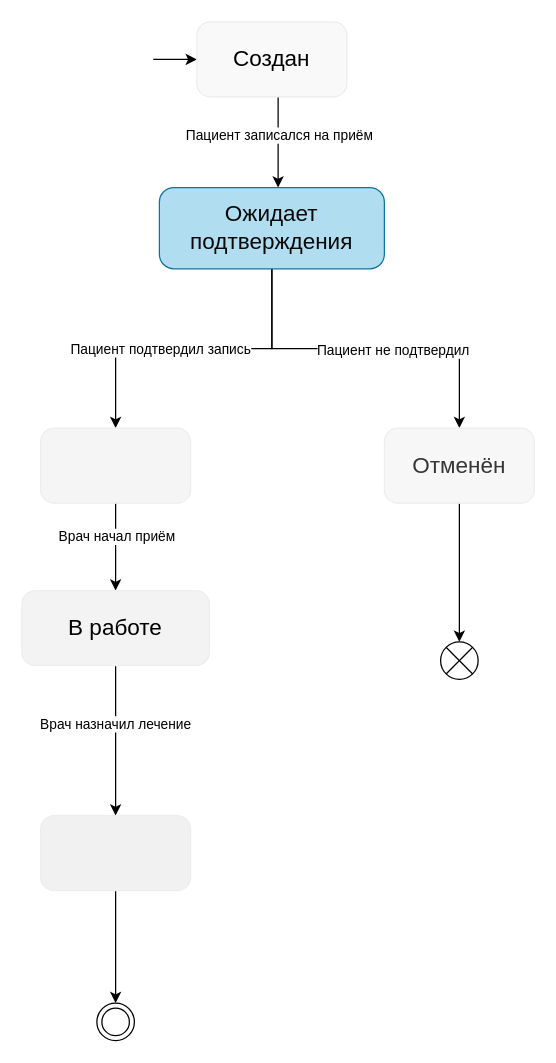
Some shapes in this 556 by 1063 pixel diagram are drawn without their labels. Here are the shapes that lost their labels. From the top down, the box of each, then its label:
(39, 427, 191, 503): Подтверждён
(39, 814, 191, 891): Завершён
